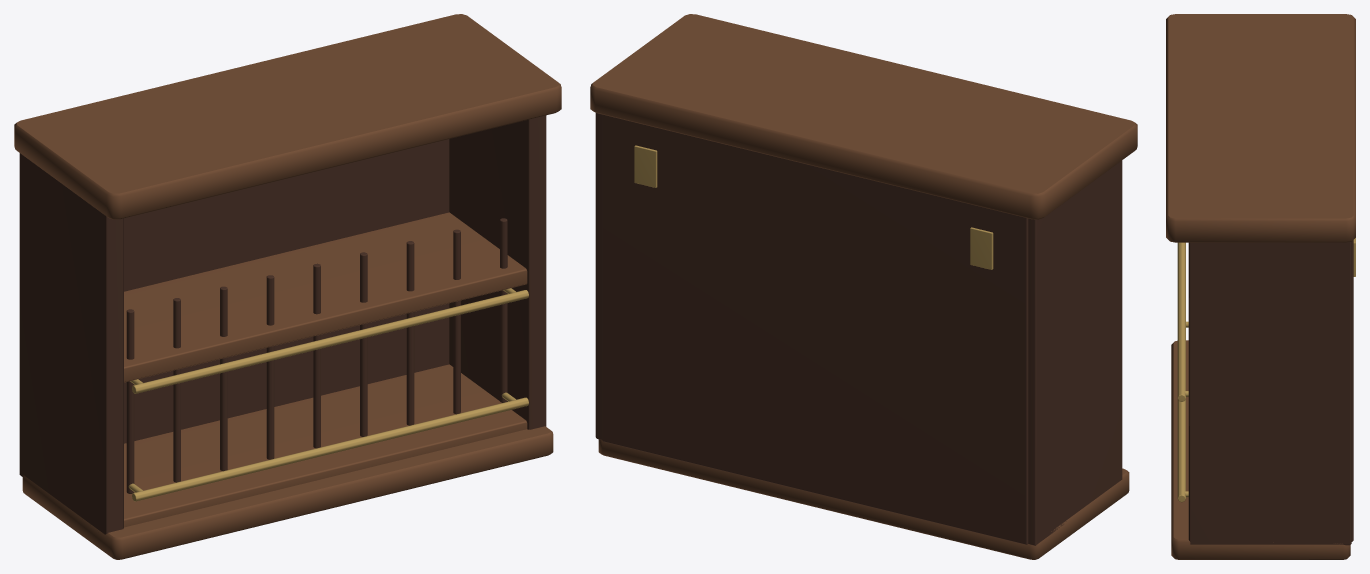
The model's file is rpg-mansion-kitchen-plate-rack-900-01.glb.
The picture shows the model from 3 angles, left to right: view 1: azimuth 30°, elevation 25°; view 2: azimuth 150°, elevation 25°; view 3: azimuth 270°, elevation 25°; orthographic projection. The views are drawn at different scales.
Parts seen in each view (by area): view 1: rpg-mansion-kitchen-plate-rack-900-01; view 2: rpg-mansion-kitchen-plate-rack-900-01; view 3: rpg-mansion-kitchen-plate-rack-900-01.
Part boxes in pixels (bbox=[...]): rpg-mansion-kitchen-plate-rack-900-01: bbox=[14, 14, 561, 559]; rpg-mansion-kitchen-plate-rack-900-01: bbox=[590, 14, 1137, 559]; rpg-mansion-kitchen-plate-rack-900-01: bbox=[1166, 14, 1355, 559].
Size of the model in its own units: 0.9 by 0.7 by 0.35.
